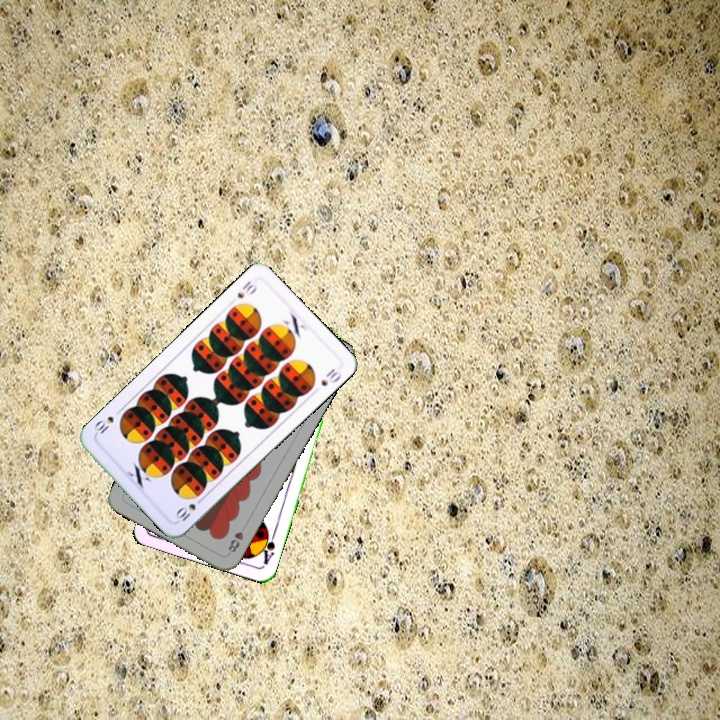H8: (224, 527, 246, 555)
S10: (171, 493, 207, 524), (233, 276, 259, 301)
SA: (256, 526, 278, 567)
